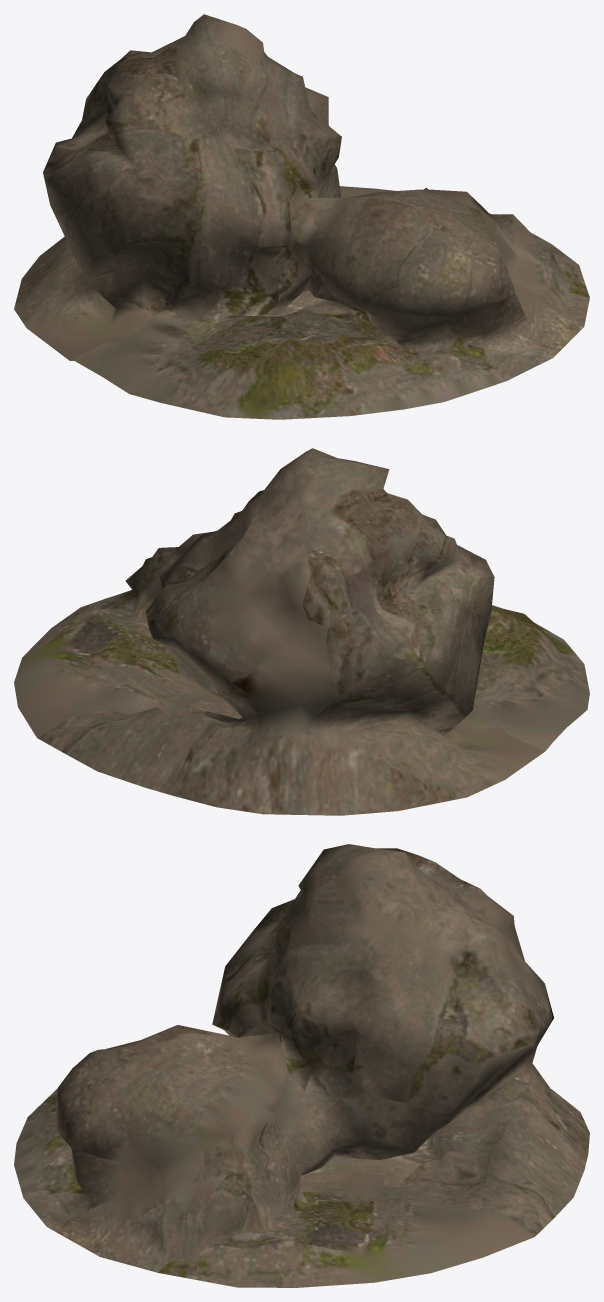
The model's file is Rocks.fbx.
The picture shows the model from 3 angles, top to bottom: view 1: azimuth 30°, elevation 25°; view 2: azimuth 150°, elevation 25°; view 3: azimuth 270°, elevation 25°; orthographic projection. The views are drawn at different scales.
Visible parts, largest first — view 1: Aset_man_made_M_tghddfmda_LOD5:Aset_man_made_M_tghddfmda_LOD; view 2: Aset_man_made_M_tghddfmda_LOD5:Aset_man_made_M_tghddfmda_LOD; view 3: Aset_man_made_M_tghddfmda_LOD5:Aset_man_made_M_tghddfmda_LOD.
Boxes of the visible parts, bbox=[...] form: Aset_man_made_M_tghddfmda_LOD5:Aset_man_made_M_tghddfmda_LOD: bbox=[14, 14, 589, 419]; Aset_man_made_M_tghddfmda_LOD5:Aset_man_made_M_tghddfmda_LOD: bbox=[14, 448, 589, 815]; Aset_man_made_M_tghddfmda_LOD5:Aset_man_made_M_tghddfmda_LOD: bbox=[14, 844, 589, 1287].
Size of the model in its own units: 1.49 by 0.7902 by 1.45.
Materials: 1 (1 with a texture image).
